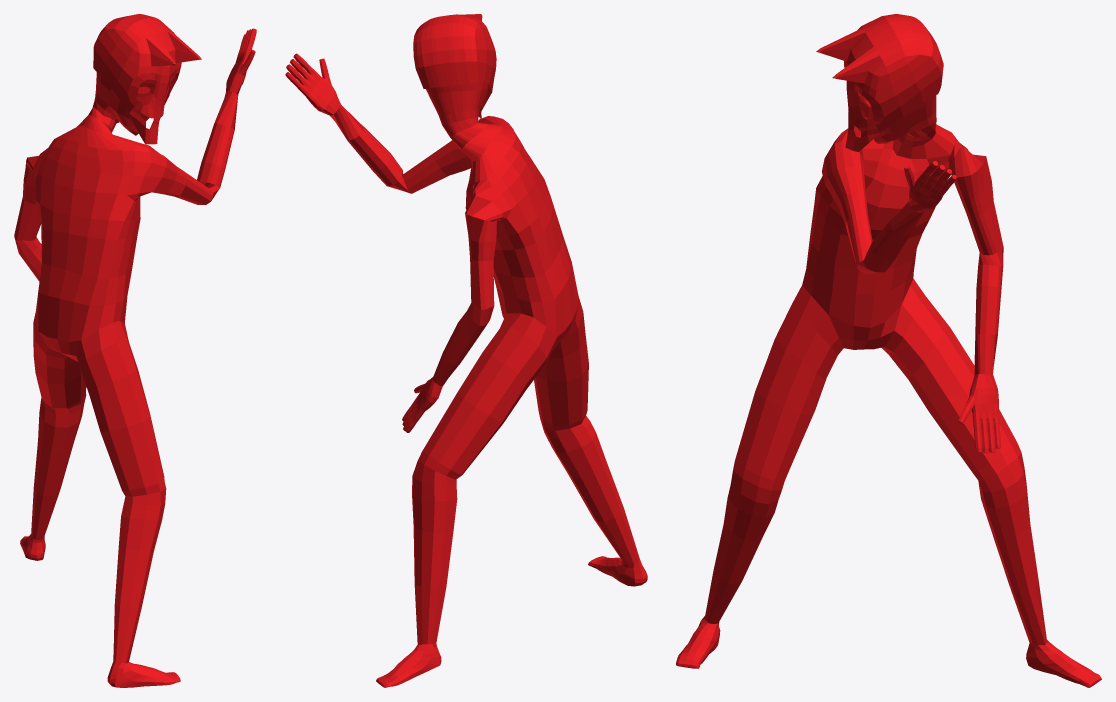
File: activaAlarma_000117.obj
3 views of the same model, side by side, from view 1: azimuth 30°, elevation 25°; view 2: azimuth 150°, elevation 25°; view 3: azimuth 270°, elevation 25° (orthographic). The views are drawn at different scales.
Visible parts, largest first — view 1: Plane.002_Plane.001; view 2: Plane.002_Plane.001; view 3: Plane.002_Plane.001.
Boxes of the visible parts, <box> form: Plane.002_Plane.001: <box>14,14,256,687</box>; Plane.002_Plane.001: <box>285,14,647,687</box>; Plane.002_Plane.001: <box>676,14,1101,687</box>.
Bounding box in the file's own units: 2.91 × 6.61 × 3.76.
